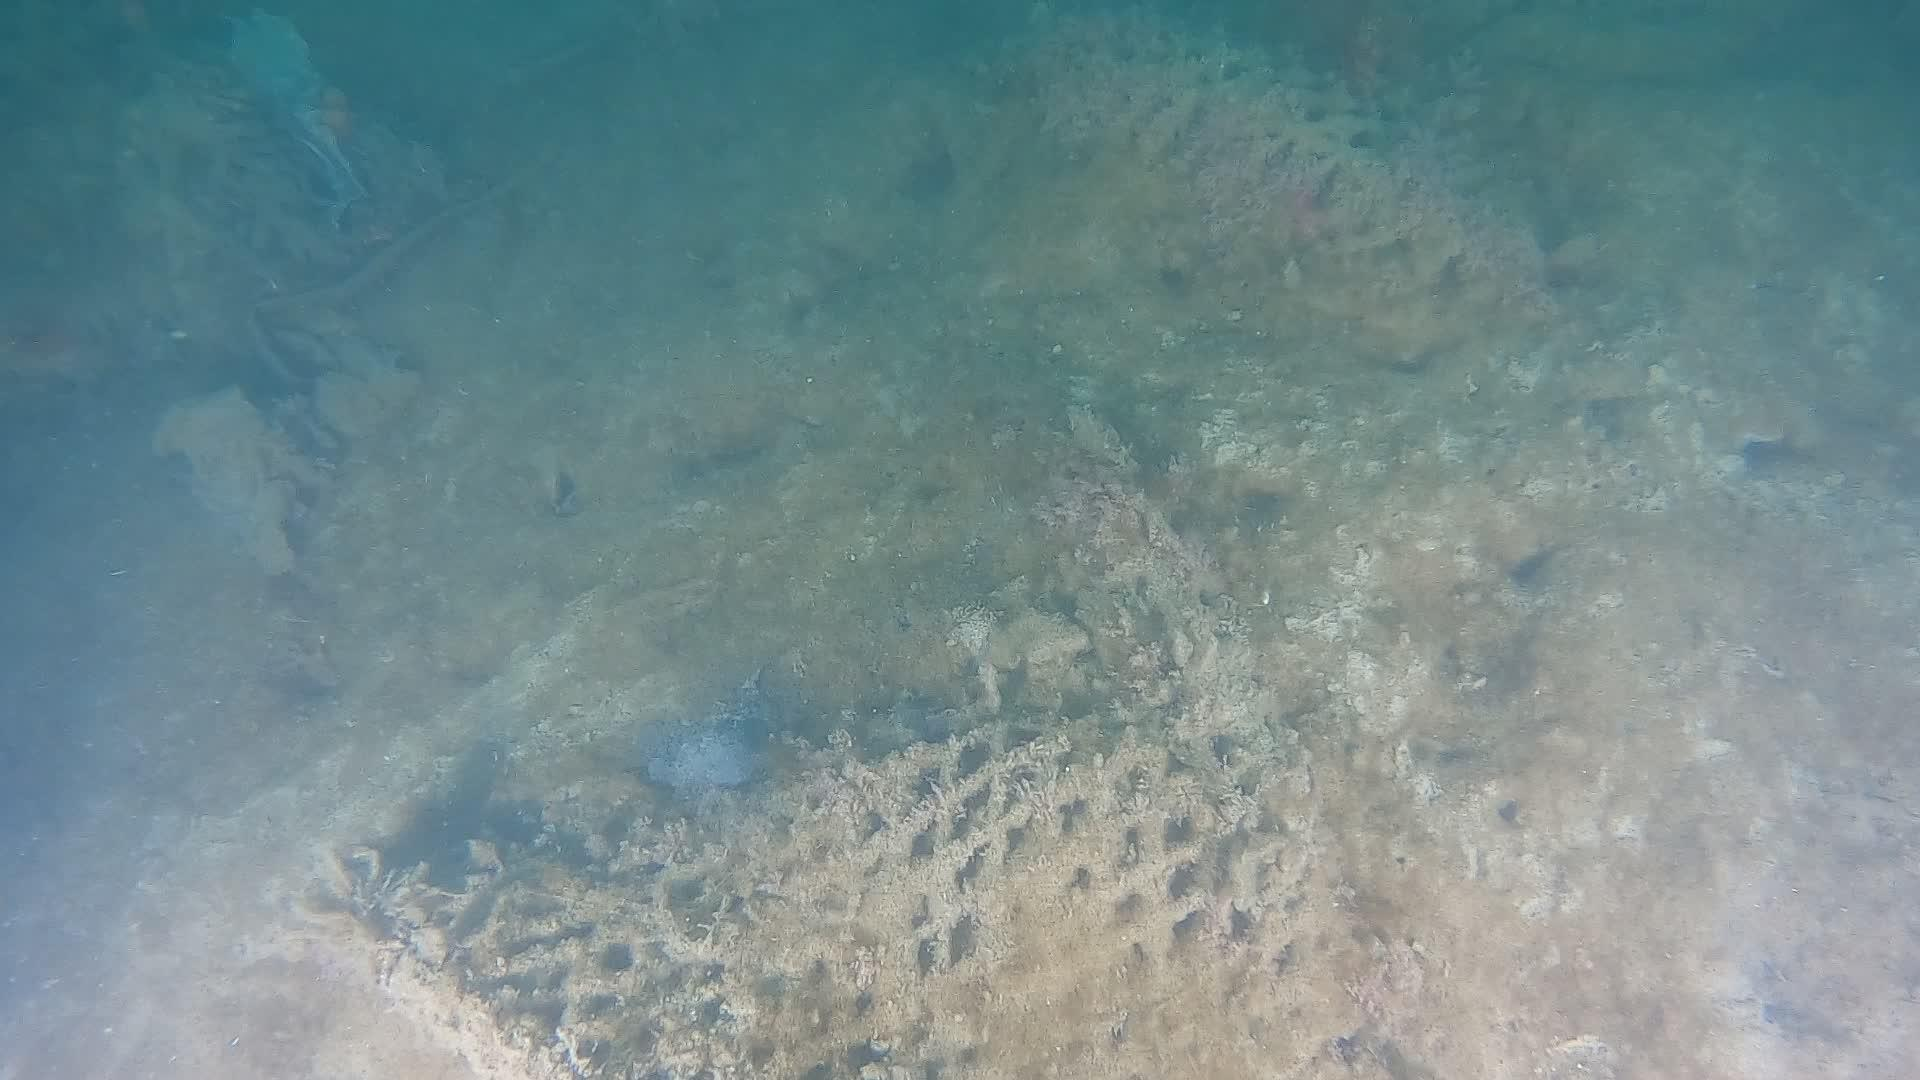spring fish trap: (266, 0, 1760, 1080)
